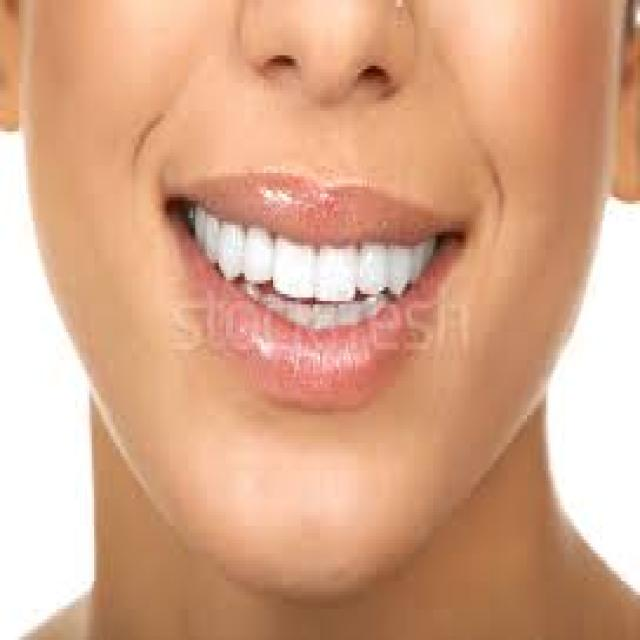tooth: (273, 238, 318, 290), (318, 238, 355, 298), (360, 238, 386, 290), (247, 225, 271, 277), (224, 228, 242, 280), (391, 242, 407, 291), (287, 301, 315, 329), (202, 214, 219, 260), (339, 301, 362, 329), (313, 305, 336, 332), (412, 242, 428, 273), (367, 297, 388, 315), (264, 294, 284, 311), (193, 201, 202, 228), (247, 284, 259, 298)
